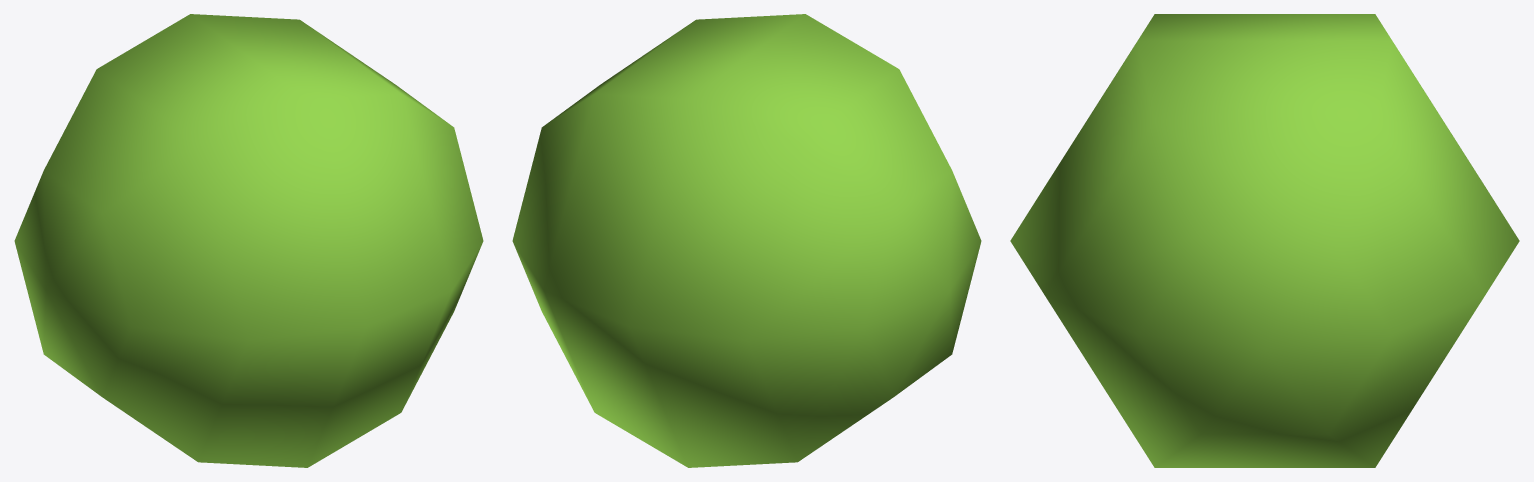
Rendered from SM_Grape_001.fbx.
The picture shows the model from 3 angles, left to right: view 1: azimuth 30°, elevation 25°; view 2: azimuth 150°, elevation 25°; view 3: azimuth 270°, elevation 25°; orthographic projection. The views are drawn at different scales.
Visible parts, largest first — view 1: Druif; view 2: Druif; view 3: Druif.
Part boxes in pixels (x1,y1,x2,y2): Druif: (14,14,483,467); Druif: (512,14,981,467); Druif: (1010,14,1519,467).
Bounding box in the file's own units: 0.0124 × 0.0107 × 0.0124.
